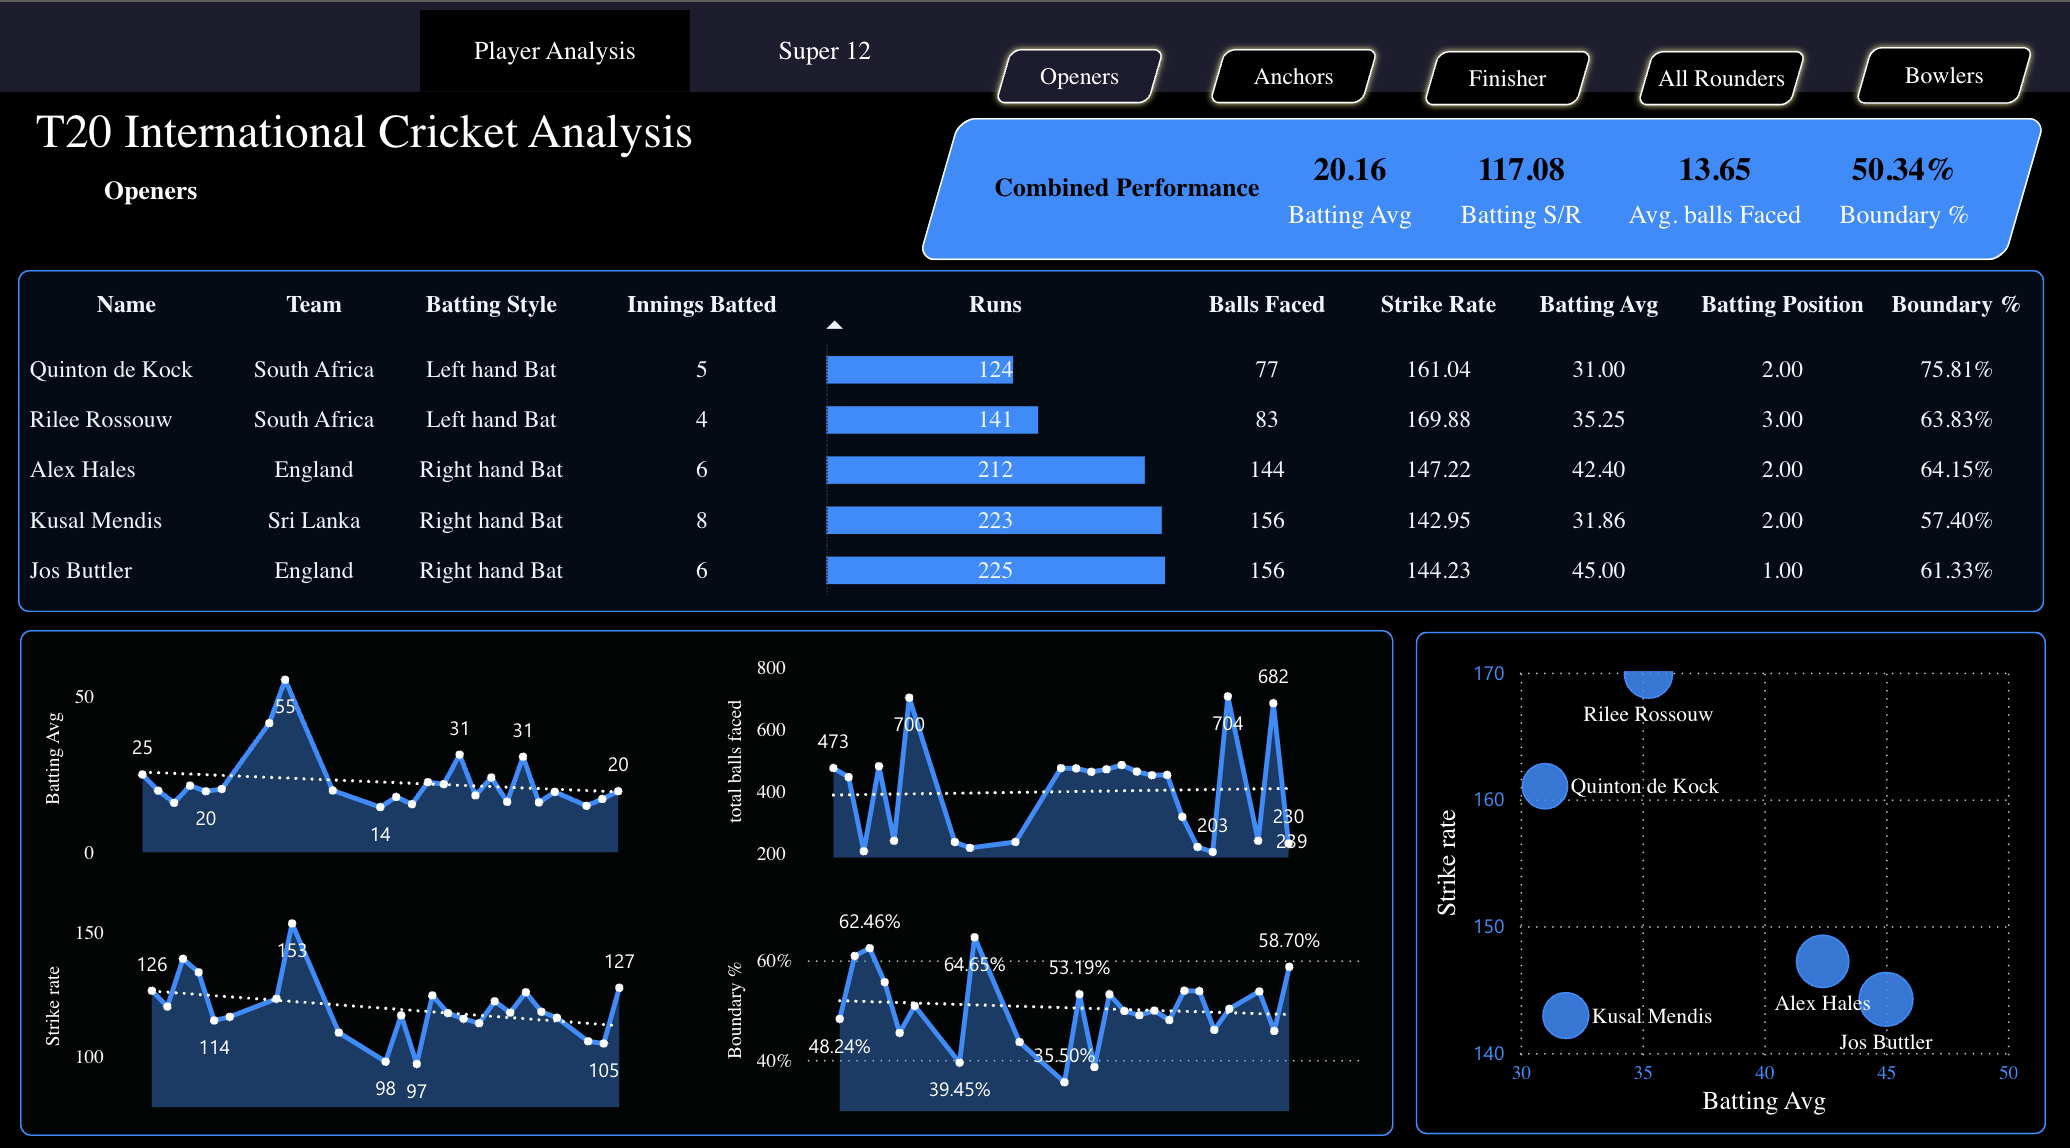

The dashboard page shown, as its layout file describes it:
{"tool":"powerbi","page":{"name":"Openers","canvas":[1280,720],"ordinal":0},"visuals":[{"type":"scatterChart","title":"Players by Batting Average & Strike Rate","fields":{"Category":["dim_players.name"],"X":["Key_Measures.Batting Avg"],"Y":["Key_Measures.Strike rate"],"Size":["Key_Measures.Batting Avg"]},"box":[882.2,410.6,370.8,292.7],"z":0},{"type":"tableEx","fields":{"Values":["dim_players.name","dim_players.team","dim_players.battingStyle","Key_Measures.Total Innings Batted","Key_Measures.Total Runs","Key_Measures.total balls faced","Key_Measures.Strike rate","Key_Measures.Batting Avg","Key_Measures.Batting Position","Key_Measures.Boundary %"]},"box":[7.8,176.4,1257.6,233.9],"z":1000},{"type":"shape","box":[0,0,1280,65.6],"z":2000},{"type":"shape","box":[11.4,176.2,1253,211.7],"z":3000},{"type":"shape","box":[874.7,397.9,391.9,312.9],"z":4000},{"type":"shape","box":[64.4,101.9,254.8,50.7],"z":5000},{"type":"shape","box":[567.7,81.1,697.4,87.9],"z":6000},{"type":"card","title":"Consolidated Parameters","fields":{"Values":["Key_Measures.Batting Avg"]},"box":[788.2,83.8,93.9,78],"z":7000},{"type":"card","title":"Consolidated Parameters","fields":{"Values":["Key_Measures.Strike rate"]},"box":[874.6,83.8,132.6,78],"z":8000},{"type":"card","title":"Consolidated Parameters","fields":{"Values":["Key_Measures.Avg. balls Faced"]},"box":[995.3,83.8,129.6,78],"z":9000},{"type":"card","title":"Consolidated Parameters","fields":{"Values":["Key_Measures.Boundary %"]},"box":[1125,83.8,104.3,78],"z":10000},{"type":"shape","box":[606.4,109.4,181.8,31.3],"z":11000},{"type":"shape","box":[606.6,31.3,120.8,49.7],"z":12000},{"type":"shape","box":[740.2,31.3,120.8,49.7],"z":13000},{"type":"shape","box":[872.3,32.7,120.8,49.7],"z":14000},{"type":"shape","box":[1004.4,32.7,120.8,49.7],"z":15000},{"type":"shape","box":[1139.4,29.8,126.4,51.1],"z":16000},{"type":"shape","box":[11.9,397.9,849.4,312.9],"z":17000},{"type":"areaChart","fields":{"Y":["Key_Measures.Batting Avg"],"Category":["dim_match_summary.matchDate.Variation.Date Hierarchy.Day"]},"box":[22.4,405.3,414.2,143.1],"z":18000},{"type":"areaChart","fields":{"Y":["Key_Measures.total balls faced"],"Category":["dim_match_summary.matchDate.Variation.Date Hierarchy.Day"]},"box":[444.1,406.8,405.3,143.1],"z":19000},{"type":"areaChart","fields":{"Category":["dim_match_summary.matchDate.Variation.Date Hierarchy.Day"],"Y":["Key_Measures.Strike rate"]},"box":[22.4,555.8,414.2,143.1],"z":20000},{"type":"areaChart","fields":{"Y":["Key_Measures.Boundary %"],"Category":["dim_match_summary.matchDate.Variation.Date Hierarchy.Day"]},"box":[444.1,557.3,405.3,143.1],"z":21000},{"type":"shape","title":"T20 International Cricket Analysis","box":[22.4,73,554.3,35.8],"z":22000},{"type":"shape","box":[259.3,14.9,166.9,50.7],"z":22001},{"type":"shape","box":[426.2,14.9,166.9,50.7],"z":22002}]}

Visuals, with their boxes in screenshot pixels (x1, y1, x2, y2), scaled from the page's 1280x720 canvas onto the 2070x1148 screenshot:
"Players by Batting Average & Strike Rate" scatterChart: 1427:655:2026:1121
tableEx - dim_players.name x dim_players.team: 13:281:2046:654
shape: 0:0:2069:105
shape: 18:281:2045:618
shape: 1415:634:2048:1133
shape: 104:162:516:243
shape: 918:129:2046:269
"Consolidated Parameters" card: 1275:134:1427:258
"Consolidated Parameters" card: 1414:134:1629:258
"Consolidated Parameters" card: 1610:134:1819:258
"Consolidated Parameters" card: 1819:134:1988:258
shape: 981:174:1275:224
shape: 981:50:1176:129
shape: 1197:50:1392:129
shape: 1411:52:1606:131
shape: 1624:52:1820:131
shape: 1843:48:2047:129
shape: 19:634:1393:1133
areaChart - Key_Measures.Batting Avg x dim_match_summary.matchDate.Variation.Date Hierarchy.Day: 36:646:706:874
areaChart - Key_Measures.total balls faced x dim_match_summary.matchDate.Variation.Date Hierarchy.Day: 718:649:1374:877
areaChart - dim_match_summary.matchDate.Variation.Date Hierarchy.Day x Key_Measures.Strike rate: 36:886:706:1114
areaChart - Key_Measures.Boundary % x dim_match_summary.matchDate.Variation.Date Hierarchy.Day: 718:889:1374:1117
"T20 International Cricket Analysis" shape: 36:116:933:173
shape: 419:24:689:105
shape: 689:24:959:105
